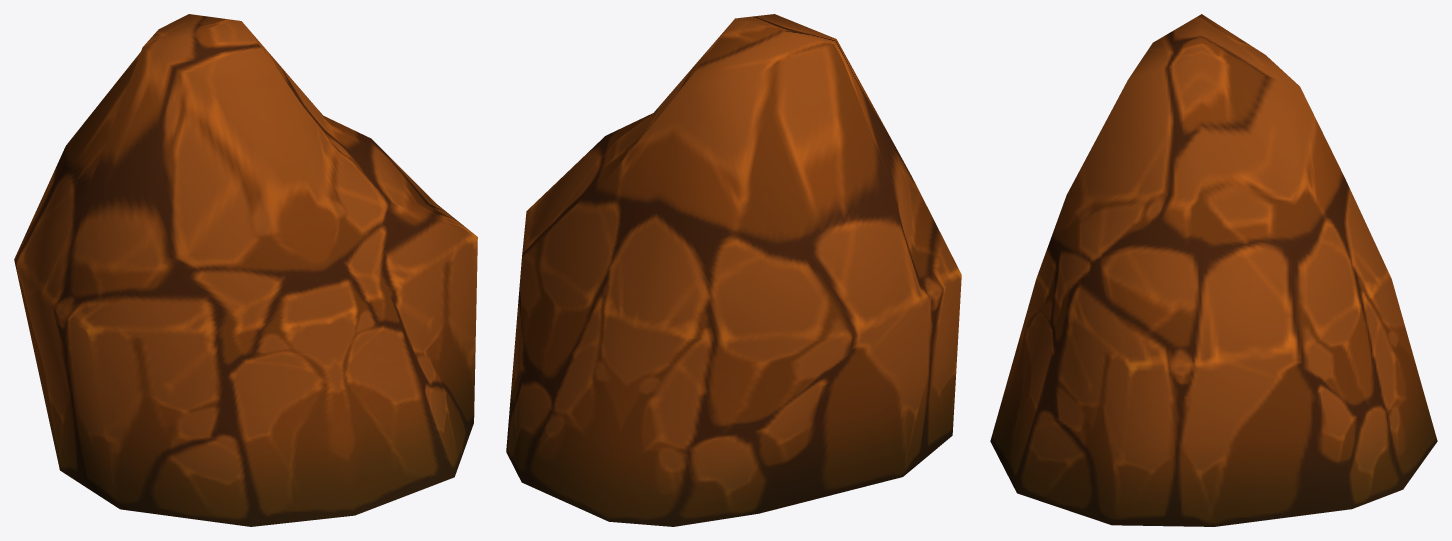
File: Rock_02.FBX
3 renders of one model, left to right at view 1: azimuth 30°, elevation 25°; view 2: azimuth 150°, elevation 25°; view 3: azimuth 270°, elevation 25°, orthographic. The views are drawn at different scales.
Visible parts, largest first — view 1: Rock_02; view 2: Rock_02; view 3: Rock_02.
Boxes of the visible parts, left/top/right/bottom form: Rock_02: left=14, top=14, right=477, bottom=526; Rock_02: left=506, top=14, right=961, bottom=526; Rock_02: left=990, top=14, right=1437, bottom=526.
Bounding box in the file's own units: 181 × 180 × 190.
